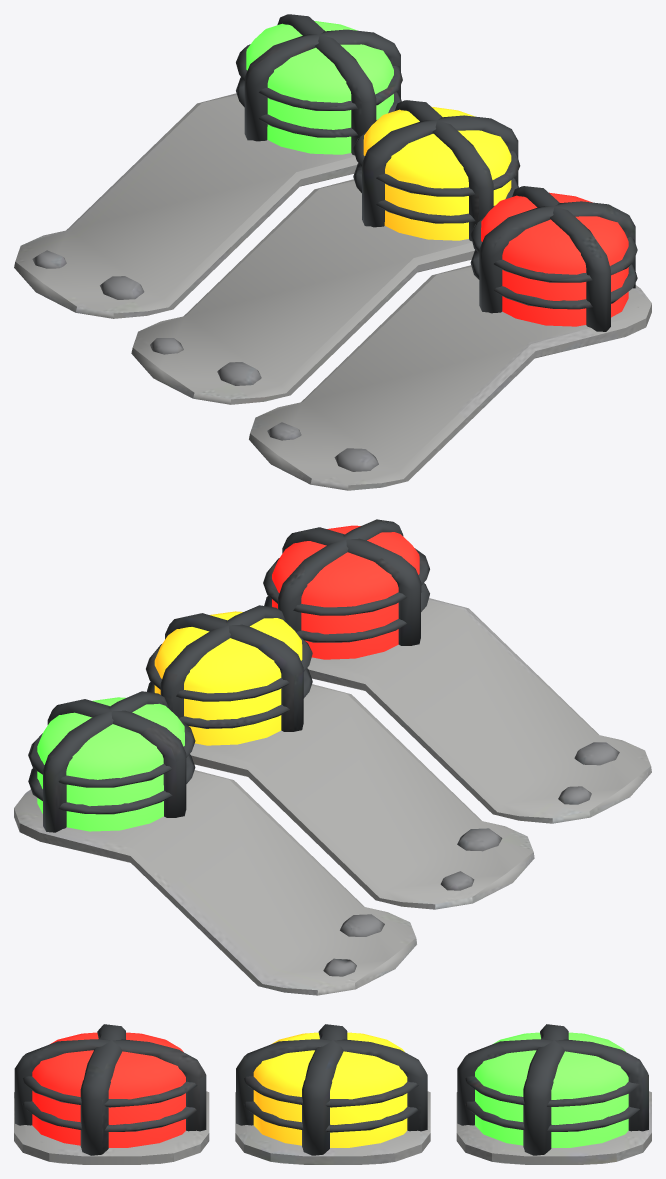
File: rail-signal.glb
The picture shows the model from 3 angles, top to bottom: view 1: azimuth 30°, elevation 25°; view 2: azimuth 150°, elevation 25°; view 3: azimuth 270°, elevation 25°; orthographic projection. The views are drawn at different scales.
Visible parts, largest first — view 1: body, anim_lit_red, anim_lit_green, anim_lit_yellow; view 2: body, anim_lit_green, anim_lit_red, anim_lit_yellow; view 3: body, anim_lit_yellow, anim_lit_green, anim_lit_red.
Boxes of the visible parts, x1=… form: body: x1=14, y1=14, x2=651, y2=490; anim_lit_red: x1=481, y1=192, x2=628, y2=326; anim_lit_green: x1=246, y1=21, x2=393, y2=154; anim_lit_yellow: x1=363, y1=106, x2=511, y2=240; body: x1=14, y1=519, x2=651, y2=995; anim_lit_green: x1=37, y1=697, x2=184, y2=831; anim_lit_red: x1=272, y1=525, x2=419, y2=659; anim_lit_yellow: x1=154, y1=611, x2=302, y2=745; body: x1=14, y1=1024, x2=651, y2=1164; anim_lit_yellow: x1=253, y1=1032, x2=407, y2=1147; anim_lit_green: x1=475, y1=1032, x2=628, y2=1147; anim_lit_red: x1=32, y1=1032, x2=185, y2=1147.
Bounding box in the file's own units: 0.7221 × 0.369 × 1.19.
4 materials, 1 textured.
